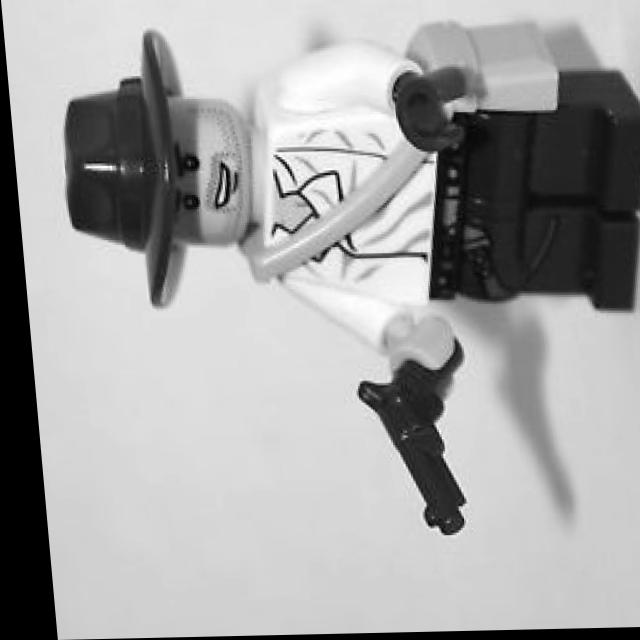handgun: (342, 335, 472, 551)
